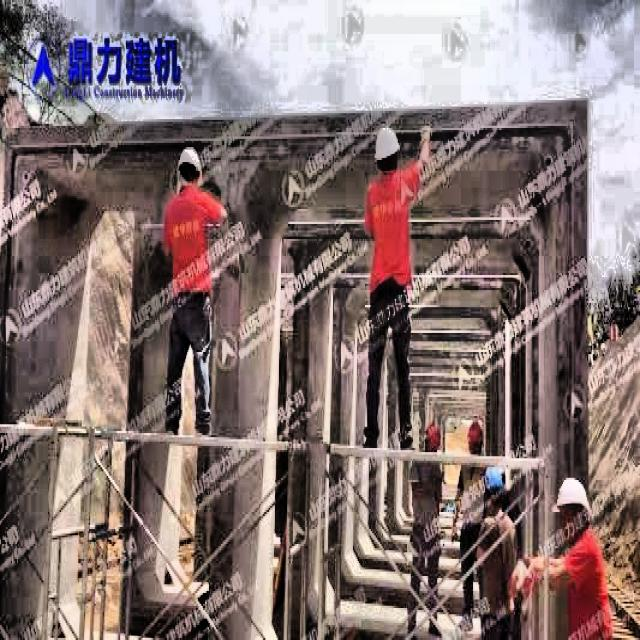helmet: (476, 463, 512, 533), (554, 474, 590, 540), (372, 124, 403, 194), (172, 143, 202, 192), (422, 408, 446, 467), (461, 418, 485, 463)
